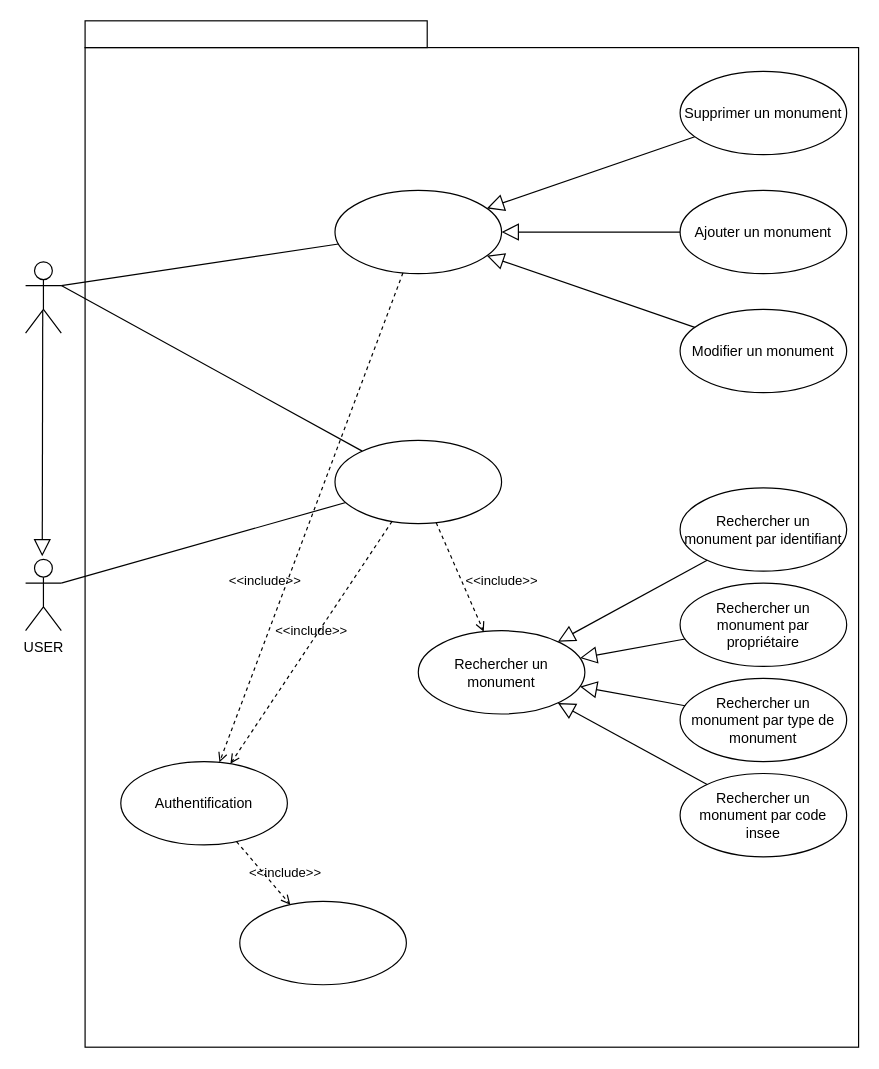
This 879x1069 diagram has some shape labels left out. The box of each missing label's shape, as (x1, y1, x2, y2) in pixels:
ADMIN: (24, 261, 61, 333)
Consulter la base de données: (334, 439, 502, 524)
Mettre à jour de la base de données: (334, 189, 502, 274)
Système de gestion et consulation de monuments: (84, 20, 427, 48)
Vérification du login et du mot de passe: (239, 900, 406, 985)
